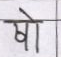e_matra: (19, 8, 35, 20)
